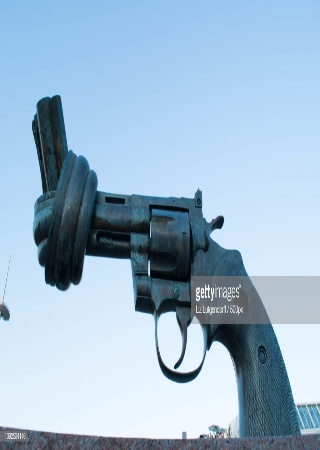handgun: (28, 90, 307, 438)
